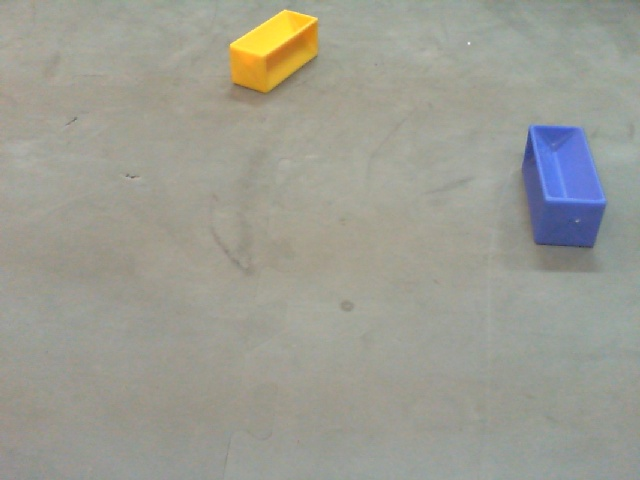BlueSample: (523, 120, 606, 251)
YellowSample: (226, 6, 327, 93)
